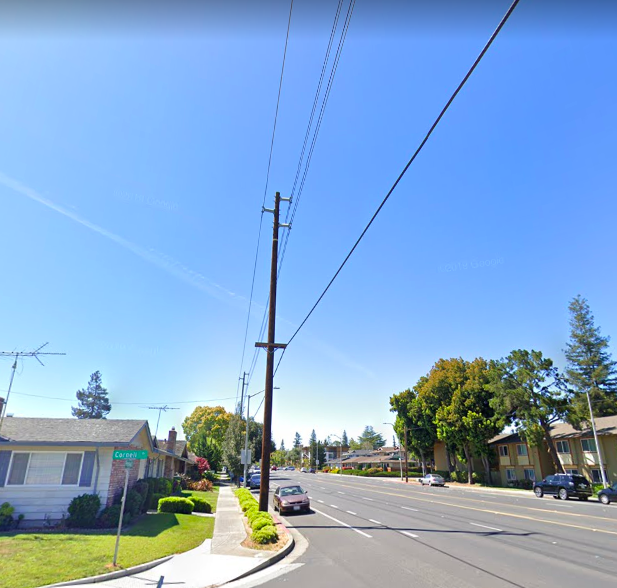utility_pole: (255, 186, 296, 233)
